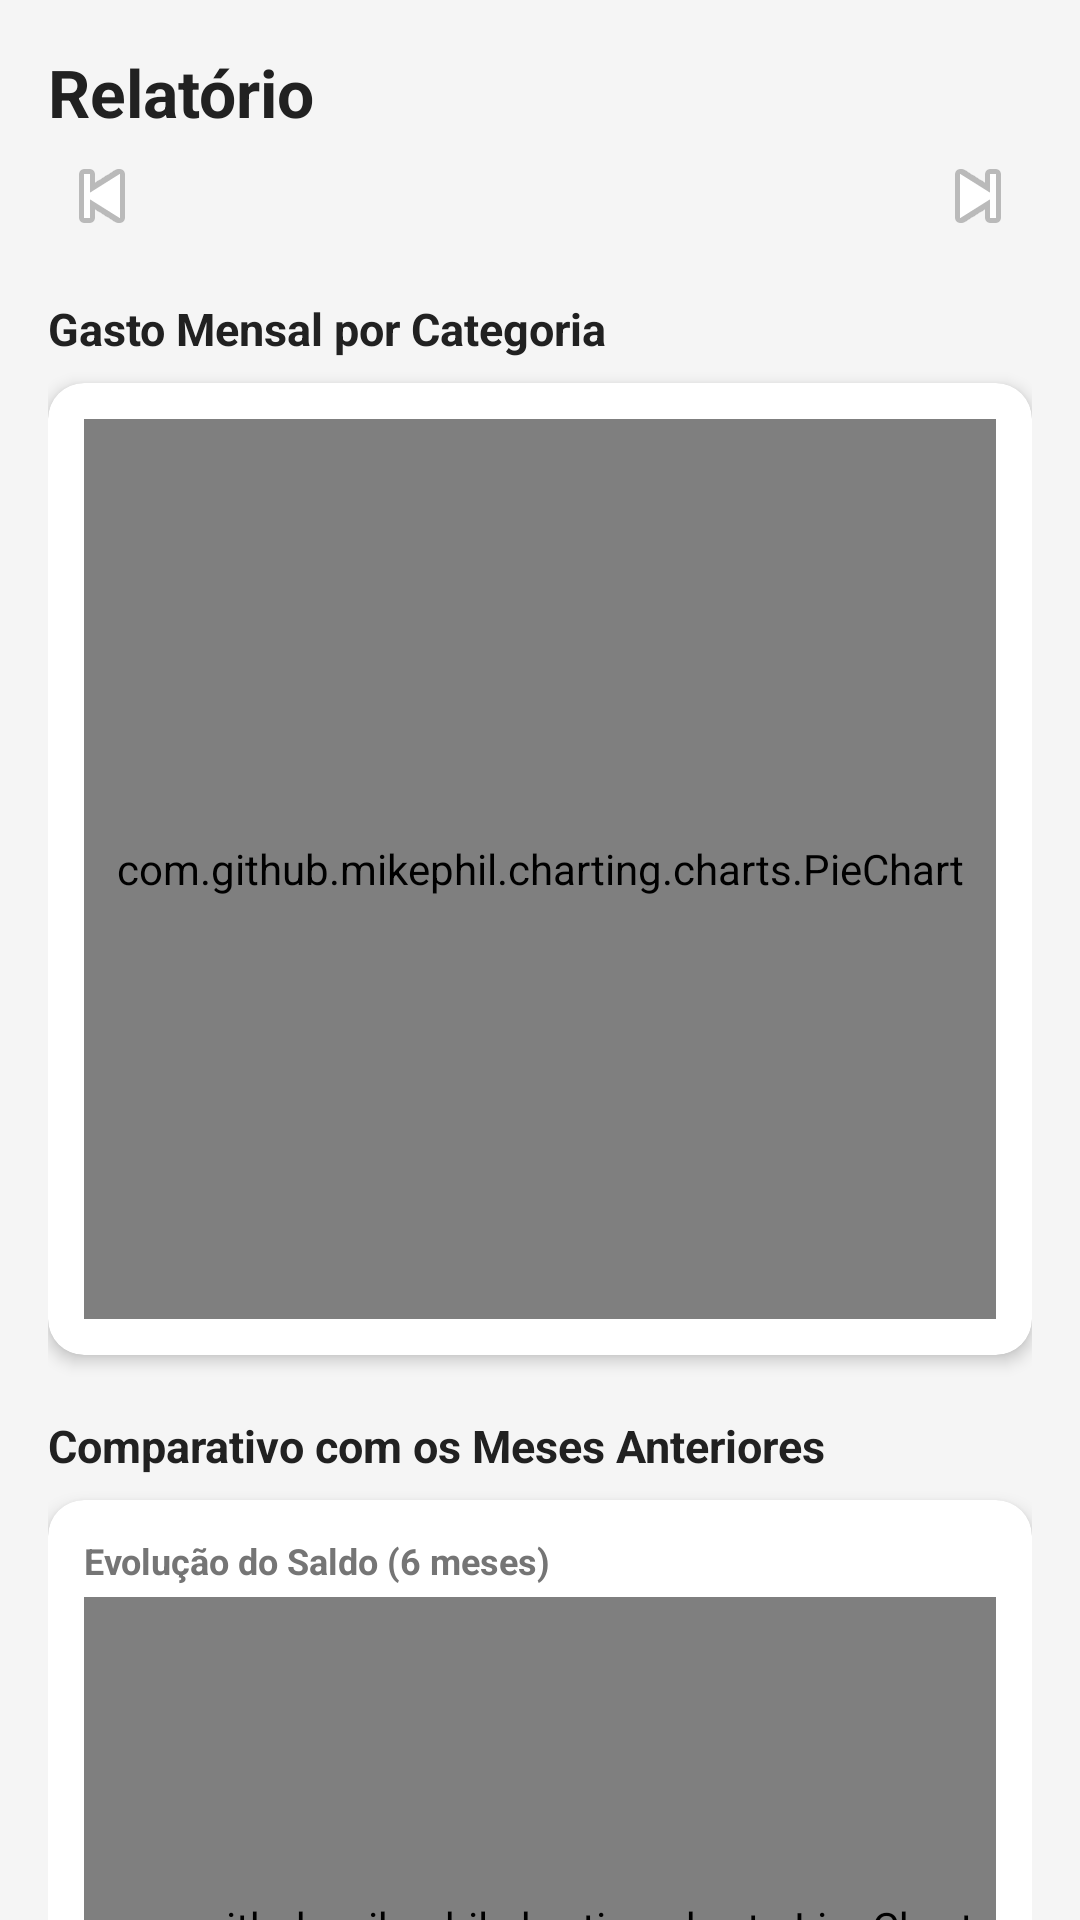

Screen size 1080px×1920px. Icon name, then its box in pixels as (x1, y1, x2, y2):
Mês anterior: (79, 169, 125, 223)
Próximo mês: (955, 169, 1001, 223)
